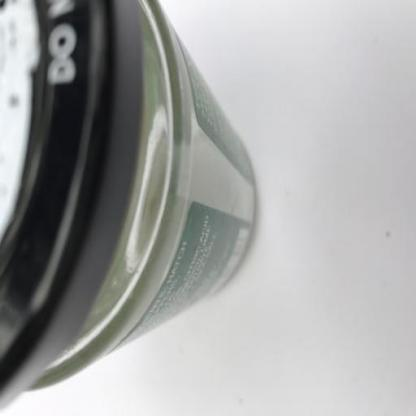trash: (0, 1, 254, 413)
